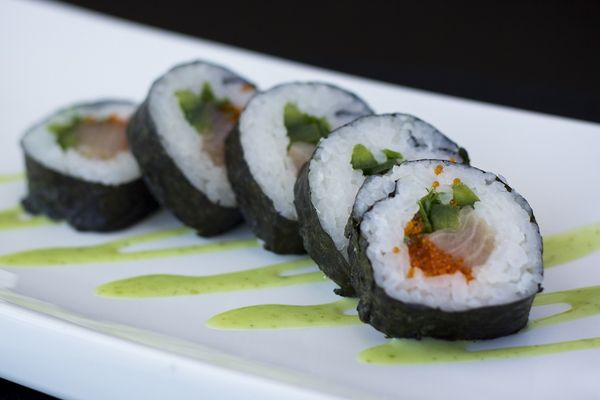sushi: (295, 113, 545, 341), (18, 98, 159, 232)
